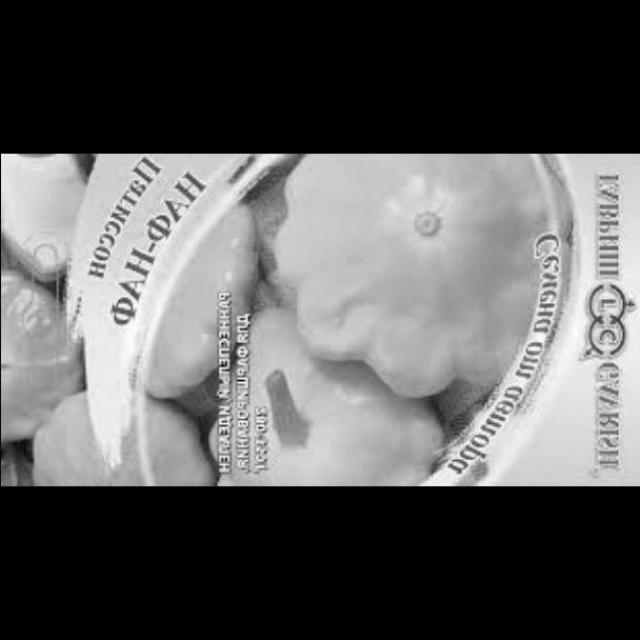squash: (266, 153, 562, 399), (193, 308, 452, 486), (23, 363, 213, 485), (130, 205, 245, 399), (0, 262, 91, 462)
